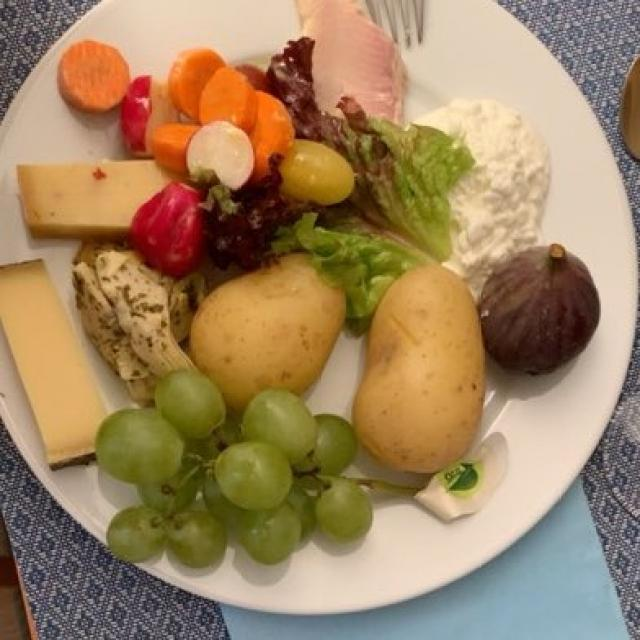artichoke: (64, 247, 198, 404)
carrot: (41, 35, 297, 183)
cheese: (1, 157, 185, 473), (411, 101, 549, 276)
figs: (482, 245, 595, 367)
grapes: (99, 377, 370, 570)
potatoes: (177, 252, 489, 462)
salad: (198, 47, 469, 324)
